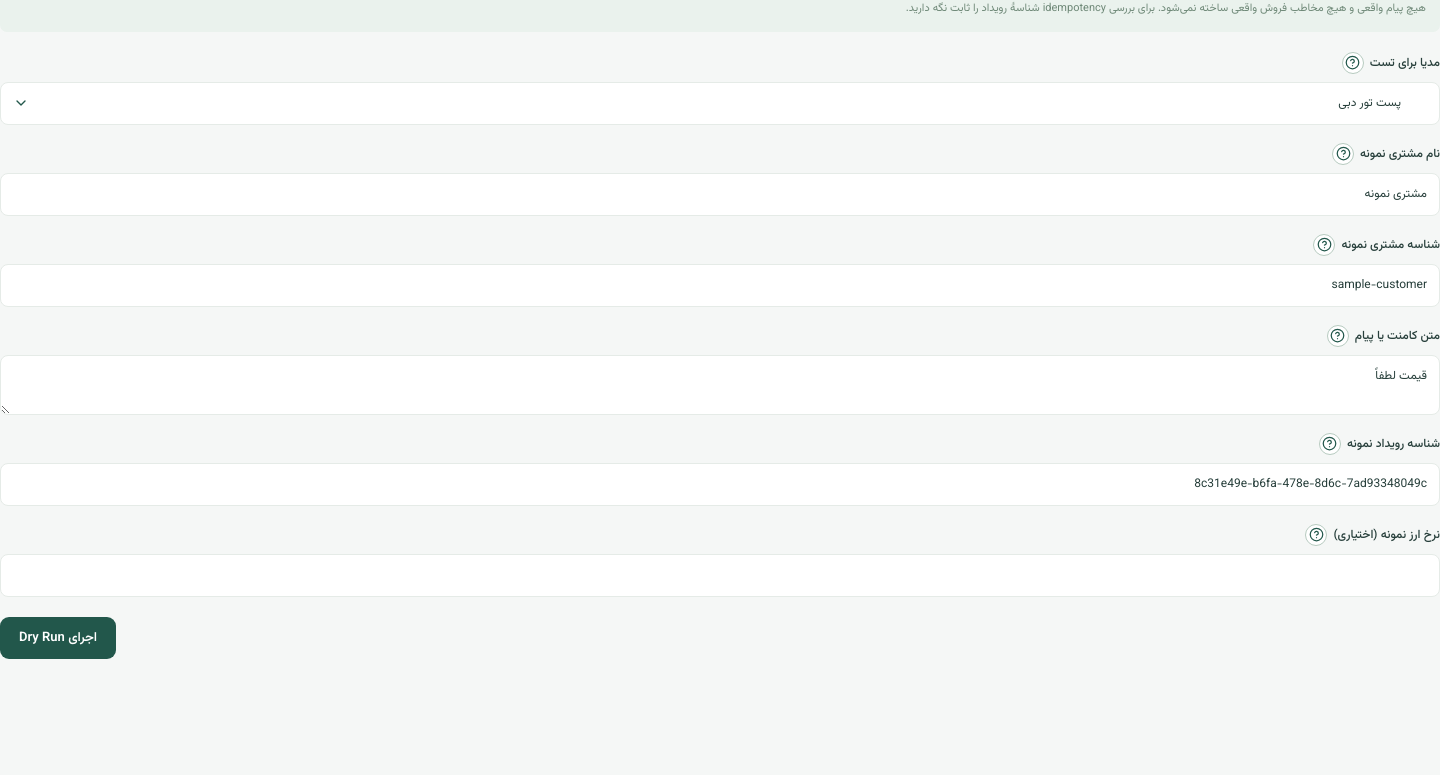
Test: commerce user workflows › runs a simulation and shows calculated message and actions
This screenshot has width=1440, height=775.
What coordinates should you click on to do the following:
click the button "اجرای Dry Run"
I would click on:
 (58, 638)
Its box is [0, 617, 116, 659].
(page scrolled)
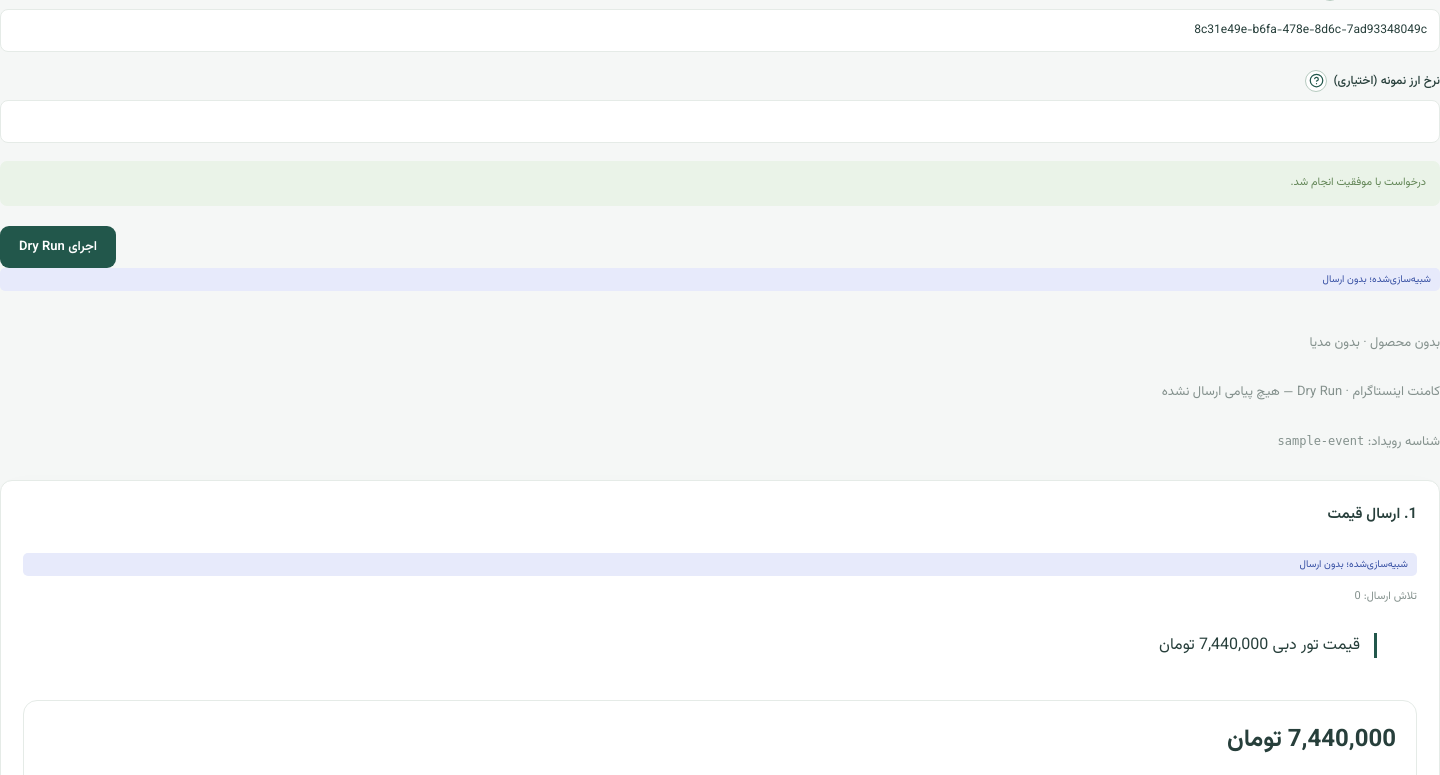
Result: the text "قیمت تور دبی 7,440,000 تومان" is shown at [63, 633, 1377, 658]
Result: the text "کامنت اینستاگرام · Dry Run — هیچ پیامی ارسال نشده" is shown at [1162, 382, 1439, 402]
